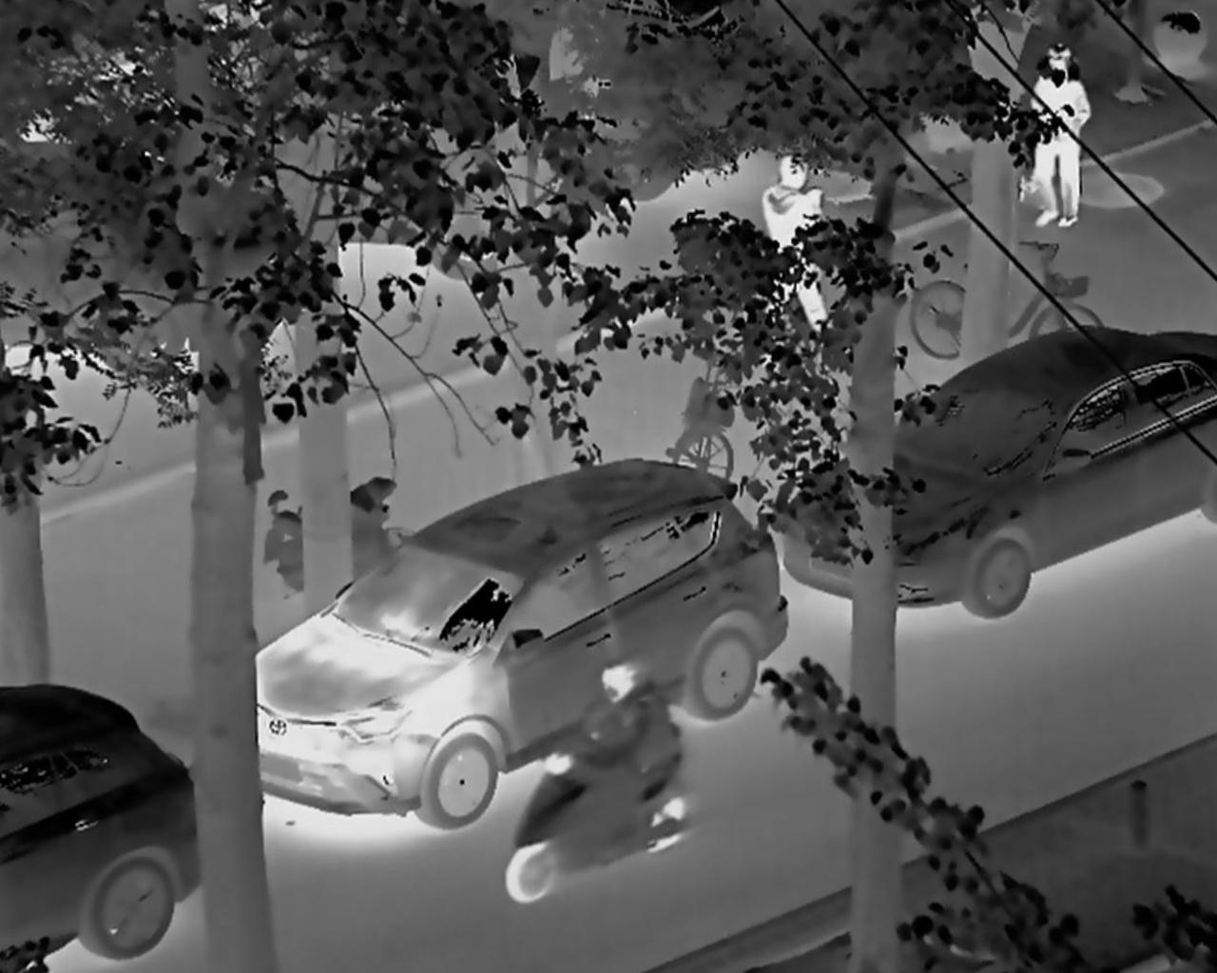person: (551, 650, 688, 842), (1014, 31, 1099, 234), (759, 152, 829, 334)
